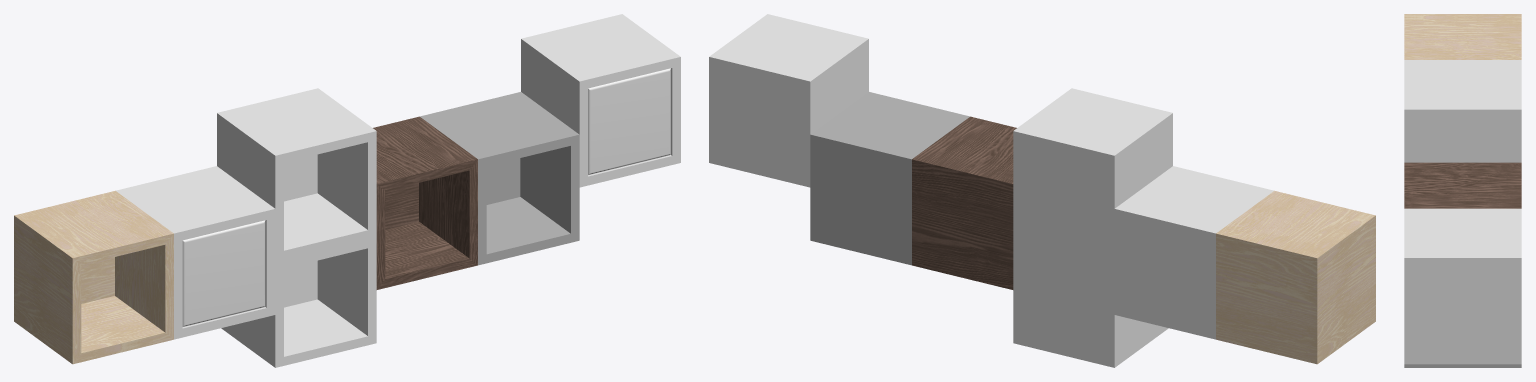
File: shelf_015.fbx
The picture shows the model from 3 angles, left to right: view 1: azimuth 30°, elevation 25°; view 2: azimuth 150°, elevation 25°; view 3: azimuth 270°, elevation 25°; orthographic projection.
Visible parts, largest first — view 1: shelf_015; view 2: shelf_015; view 3: shelf_015.
Part boxes in pixels (left/top/right/bottom): shelf_015: left=14, top=14, right=680, bottom=367; shelf_015: left=709, top=14, right=1375, bottom=367; shelf_015: left=1404, top=14, right=1521, bottom=367.
Size of the model in its own units: 297 by 49.5 by 99.
